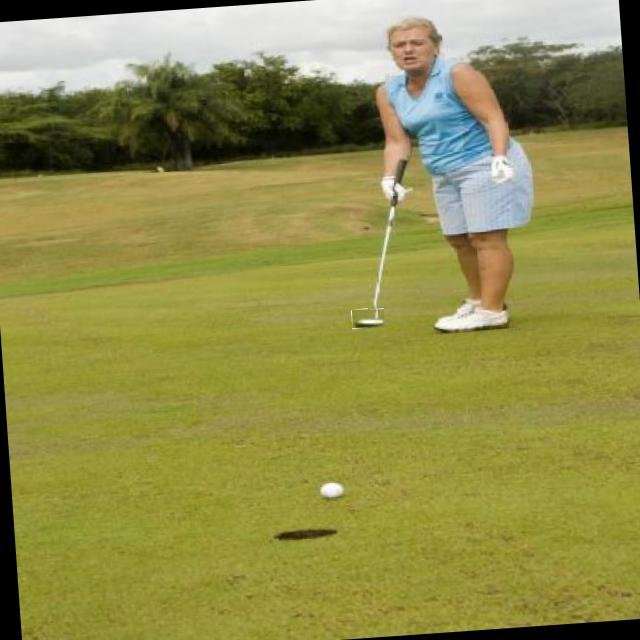club head: (350, 308, 384, 328)
